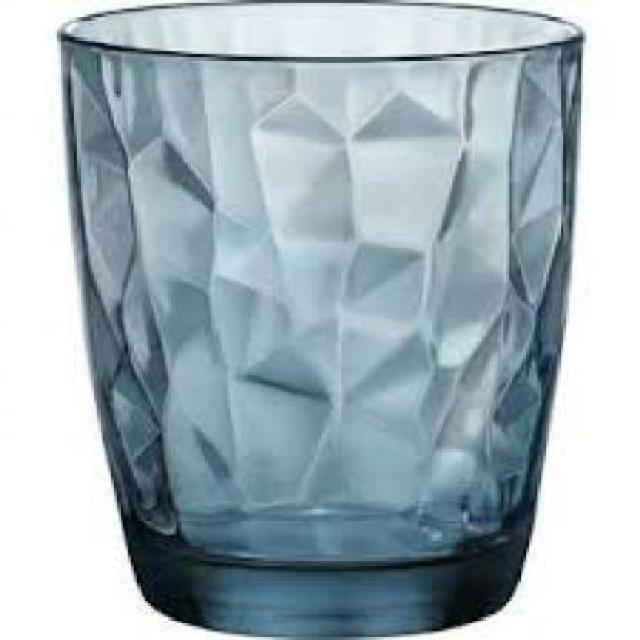kaca: (51, 0, 580, 637)
